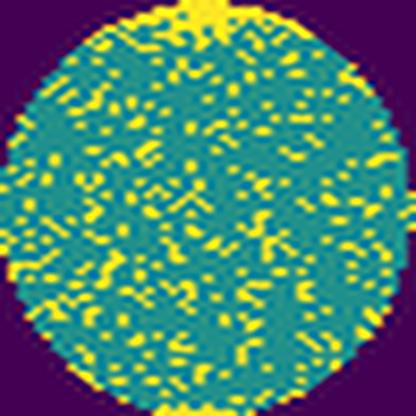Edge-Loc: (86, 0, 319, 43)
